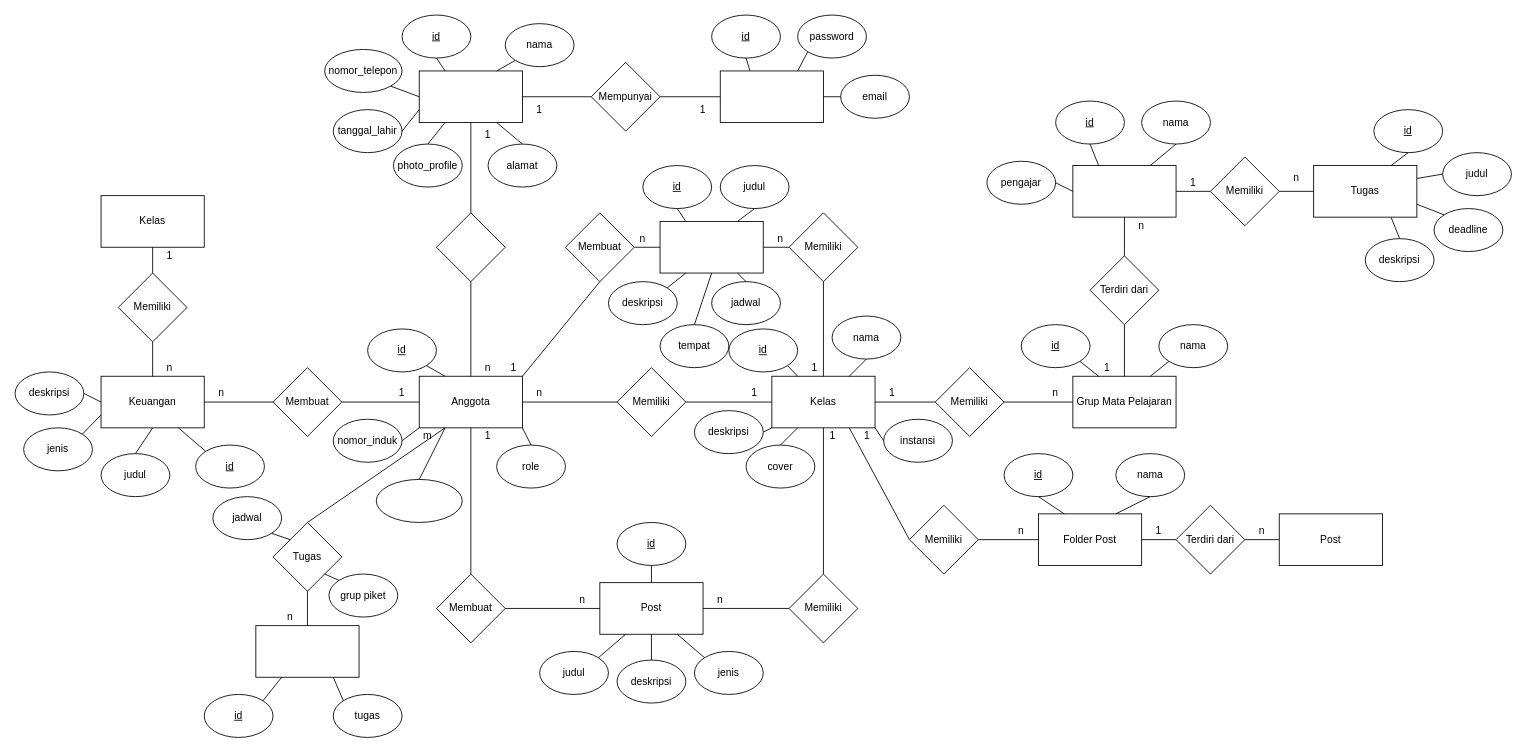
Image size: 1527x753. Some labels were removed from this diagram. The shapes that lost their labels are listed below. From the top down, each one's centre as x and y in pixels, then its label:
At point 470,96: "User".
At point 771,96: "Akun".
At point 1124,191: "Mata Pelajaran".
At point 470,247: "Menjadi".
At point 711,247: "Event".
At point 418,500: "nomor_presensi".
At point 307,651: "Piket".
